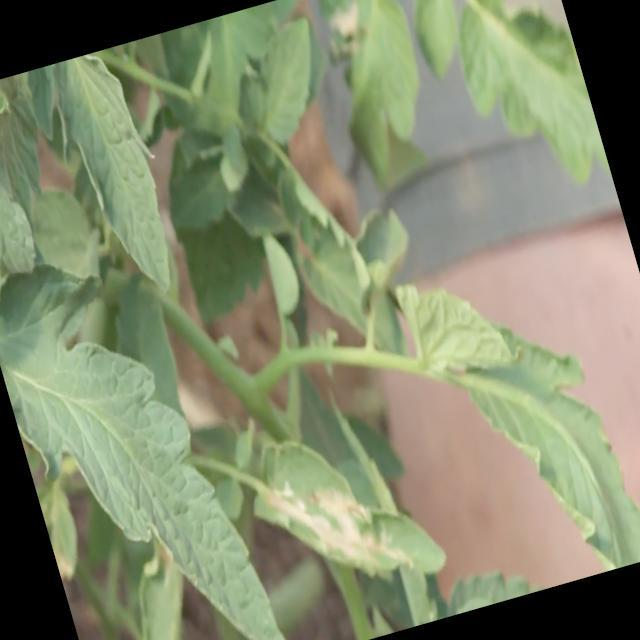Tomato healthy leaf: (0, 227, 297, 640), (32, 44, 194, 316)
Tomato target spot leaf: (234, 404, 450, 626)
